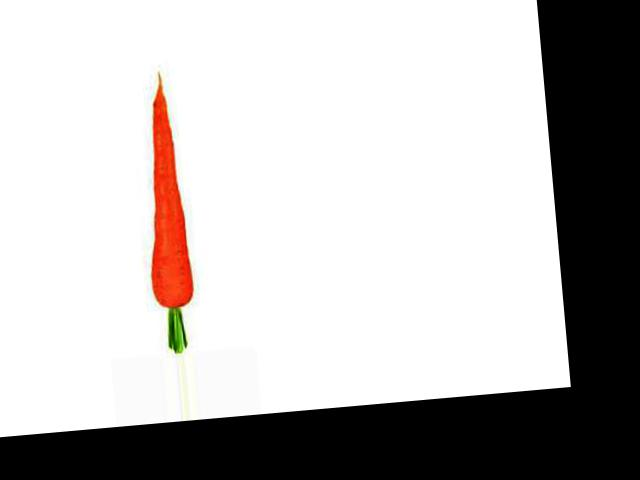carrot: (131, 72, 204, 312)
